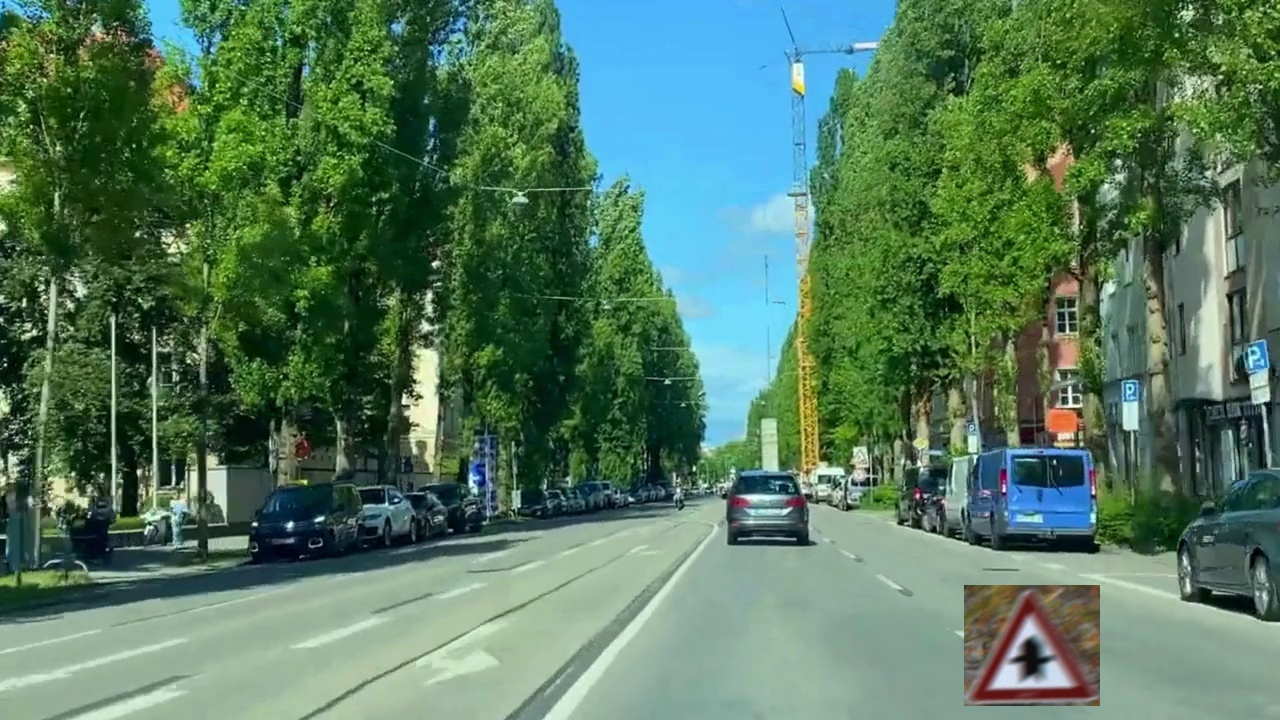Right-of-way: (964, 585, 1100, 706)
